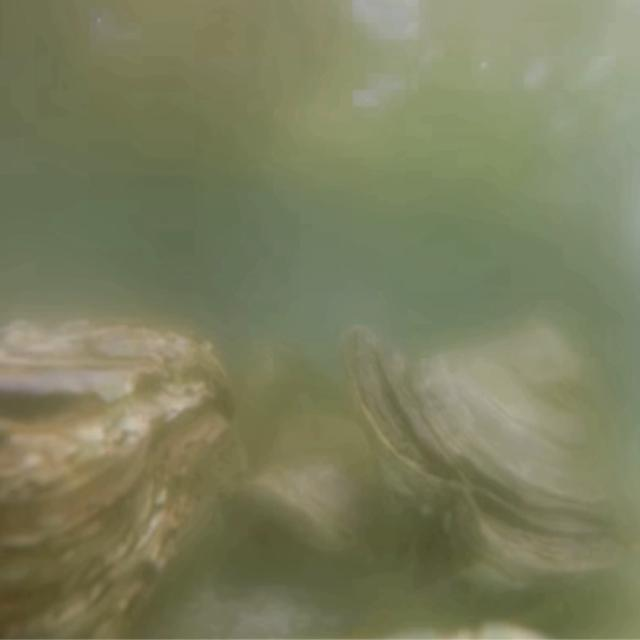Oyster-Closed: (339, 323, 640, 600), (0, 320, 246, 638)
Oyster-Indeterminate: (235, 409, 387, 566)
